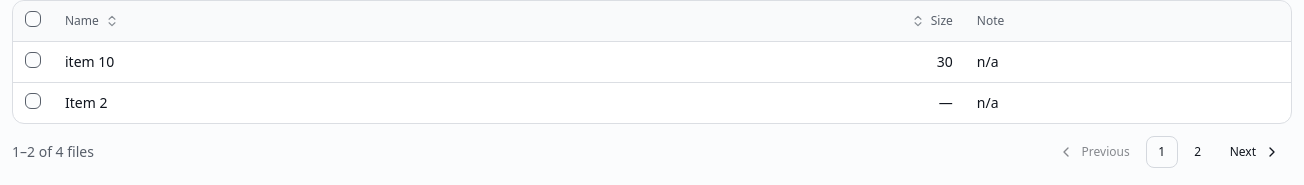
Test: DataTable › selection › selects rows with checkboxes named after each row
Click the checkbox named "Select item 10": click(33, 60) [25,52,41,68]
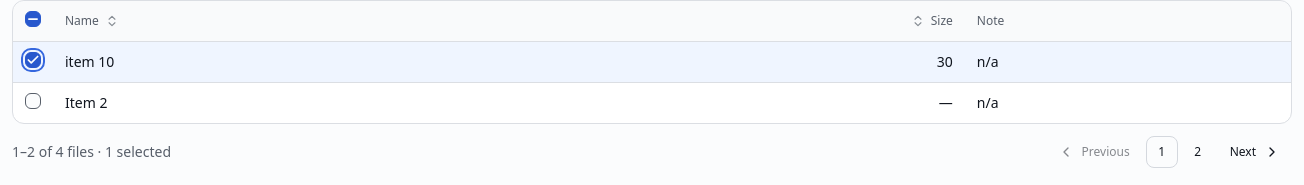
Expected: the text "1–2 of 4 files · 1 selected" is shown, [12,142,171,162]
